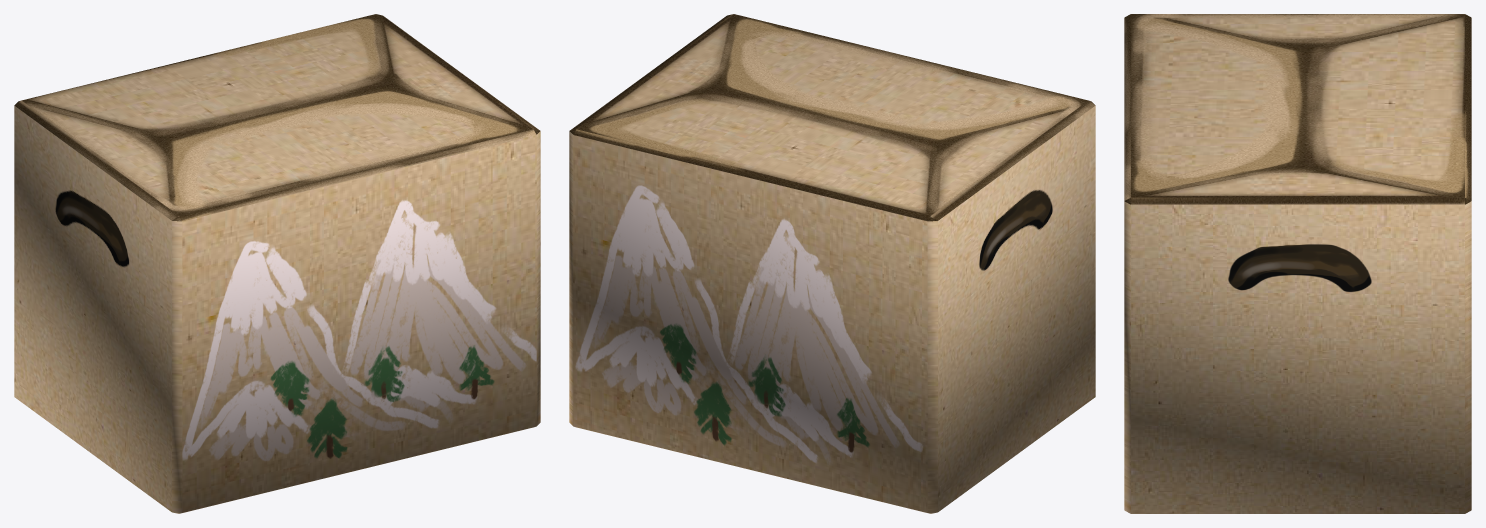
File: Box_Ver3.fbx
3 renders of one model, left to right at view 1: azimuth 30°, elevation 25°; view 2: azimuth 150°, elevation 25°; view 3: azimuth 270°, elevation 25°, orthographic. The views are drawn at different scales.
Parts seen in each view (by area): view 1: Cube; view 2: Cube; view 3: Cube.
Part boxes in pixels (<box>): Cube: <box>14,14,540,513</box>; Cube: <box>569,14,1095,513</box>; Cube: <box>1124,14,1471,513</box>.
Size of the model in its own units: 472 by 365 by 364.
